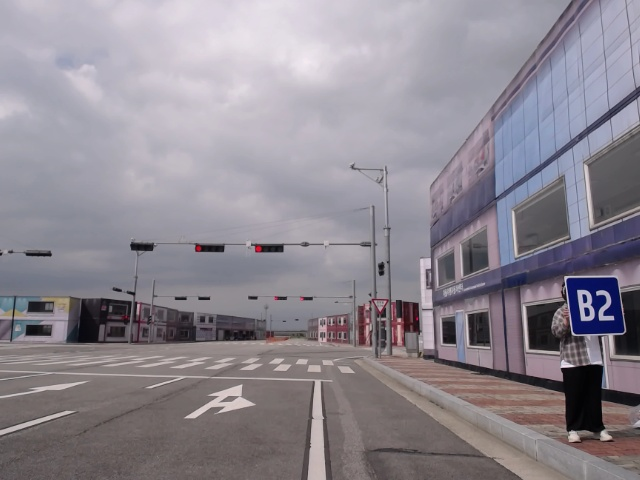delivery_b2: (564, 274, 629, 338)
red_4: (251, 242, 287, 253), (194, 242, 225, 254), (273, 294, 289, 302), (299, 295, 315, 302)
